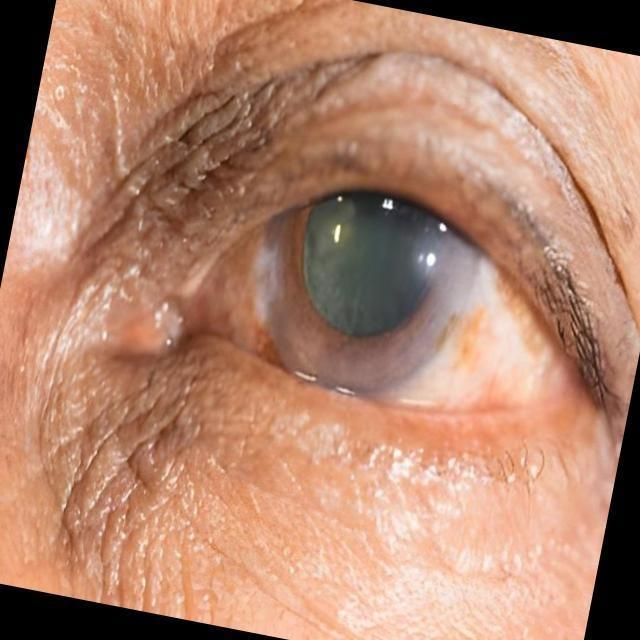Cataract: (236, 146, 504, 423)
